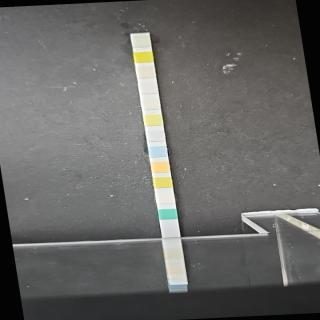mark: (153, 176, 172, 188), (159, 208, 177, 220), (149, 146, 167, 158), (142, 98, 160, 110), (134, 51, 152, 63), (132, 36, 150, 48), (152, 160, 169, 172), (147, 130, 164, 142), (138, 66, 155, 78), (144, 114, 162, 125), (141, 82, 157, 94), (156, 193, 174, 203)
